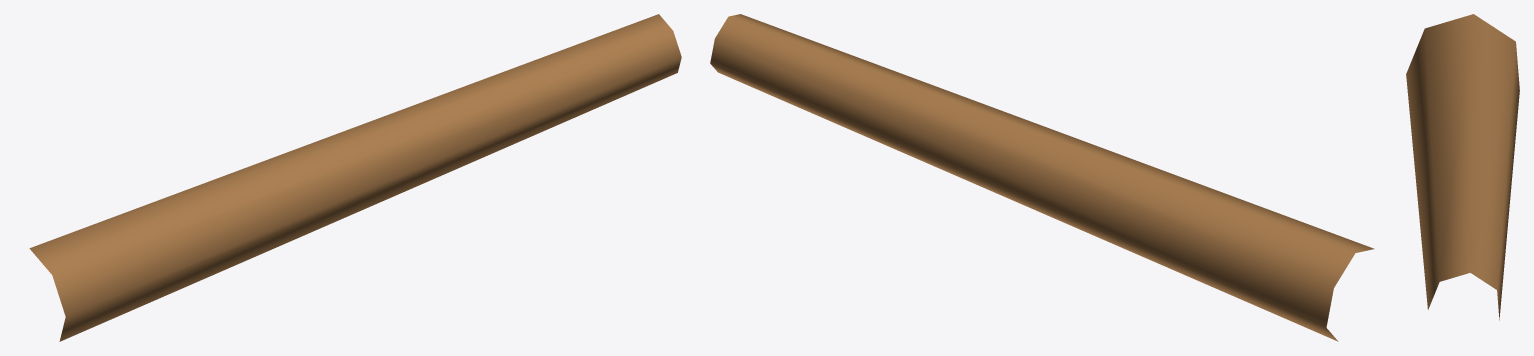
Rendered from stick_small.glb.
3 views of the same model, side by side, from view 1: azimuth 30°, elevation 25°; view 2: azimuth 150°, elevation 25°; view 3: azimuth 270°, elevation 25° (orthographic). The views are drawn at different scales.
Visible parts, largest first — view 1: stick_small; view 2: stick_small; view 3: stick_small.
Part boxes in pixels (x1,y1,x2,y2): stick_small: [29, 14, 681, 341]; stick_small: [710, 14, 1374, 341]; stick_small: [1406, 14, 1519, 320].
Bounding box in the file's own units: 0.5027 × 0.1293 × 0.0675.
